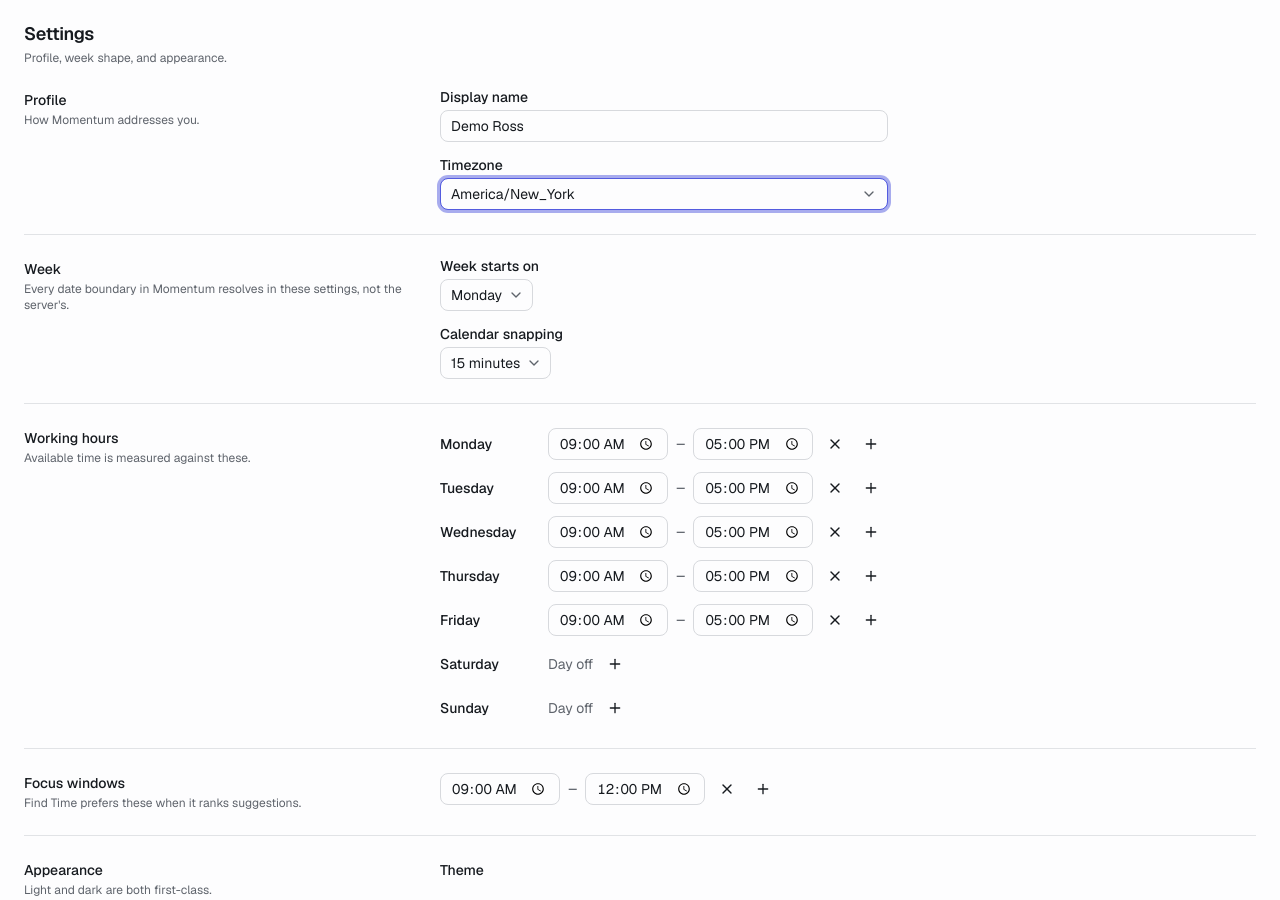
Test: timezone › offers every IANA zone through a searchable list and sends the chosen one
Click the dropdown named "Timezone".
click(513, 194)  # box x1=440 y1=178 x2=888 y2=210
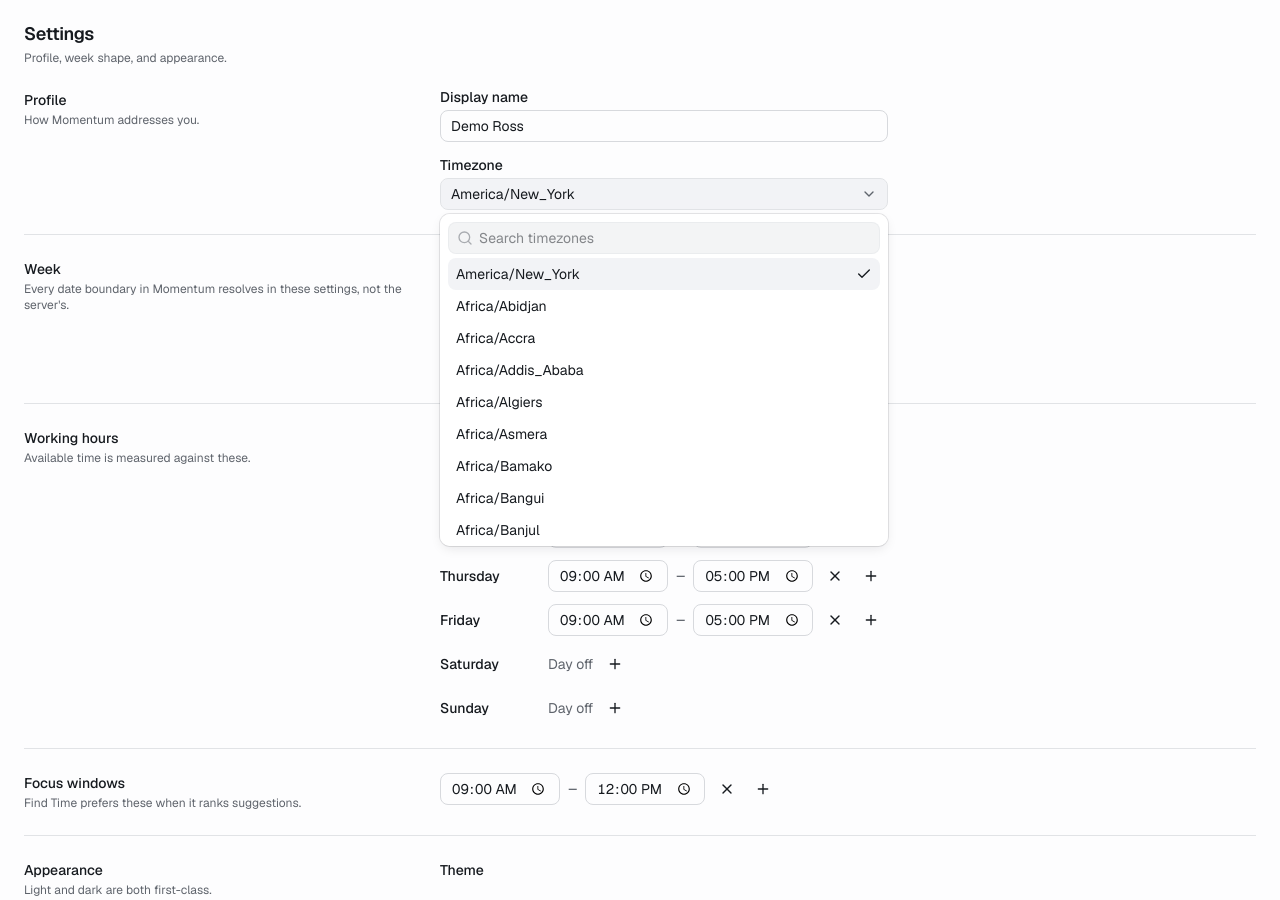
Type "auckland" into the dropdown labelled "Search timezones".
click(676, 238); type("auckland")  # box x1=473 y1=228 x2=879 y2=248
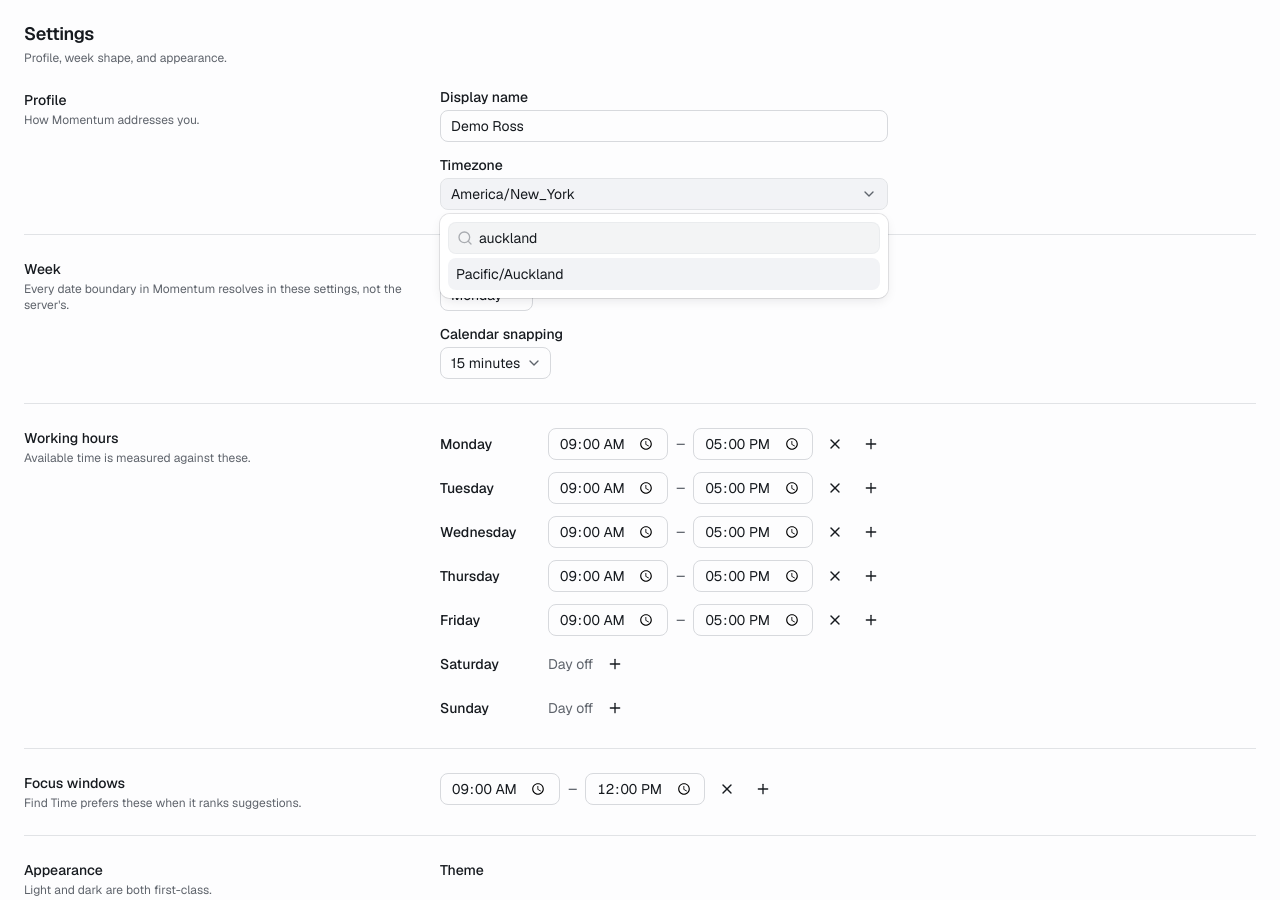
Click the option "Pacific/Auckland".
click(510, 274)  # box x1=448 y1=258 x2=880 y2=290
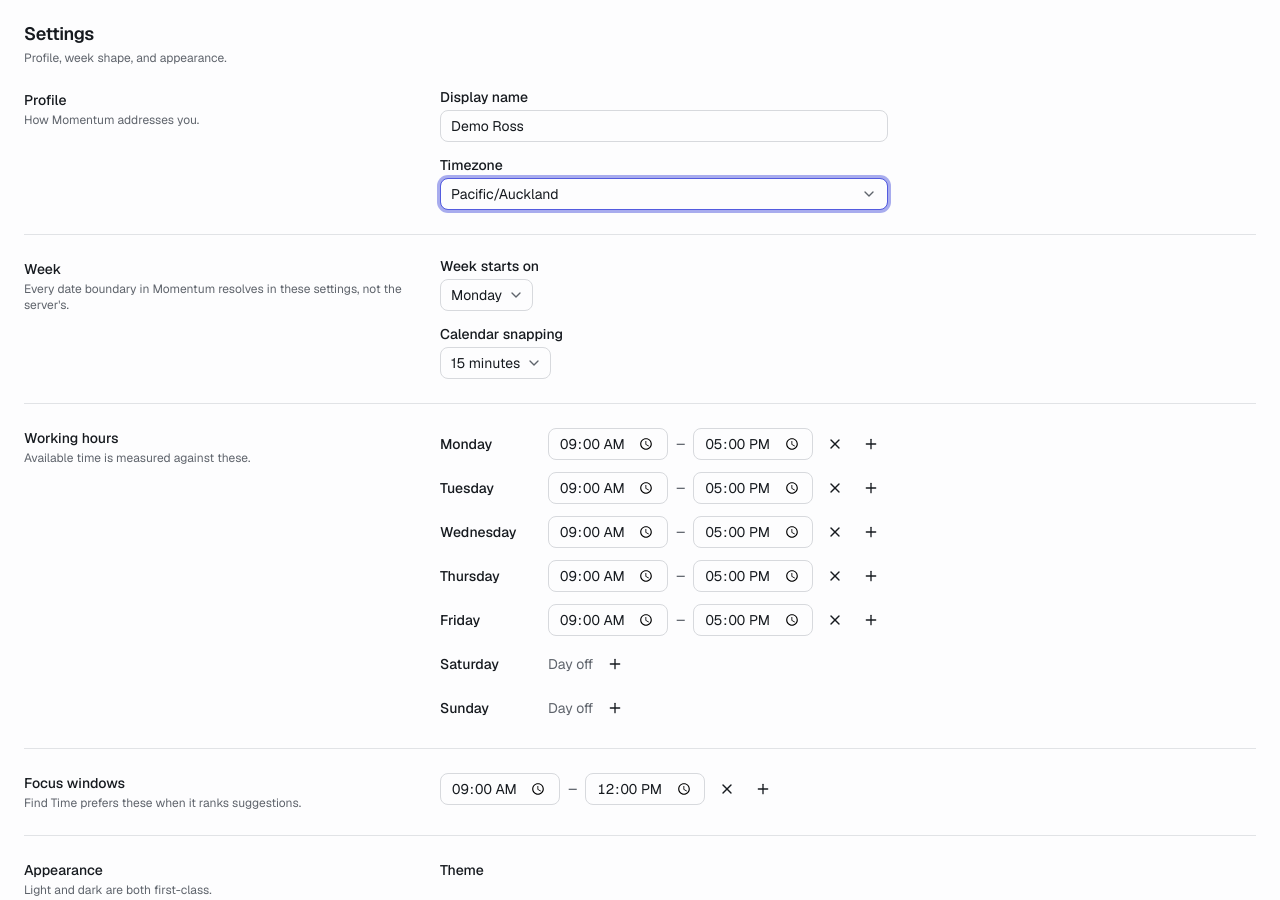
Now the dropdown named "Timezone" reads "Pacific/Auckland", box x1=440 y1=178 x2=888 y2=210
